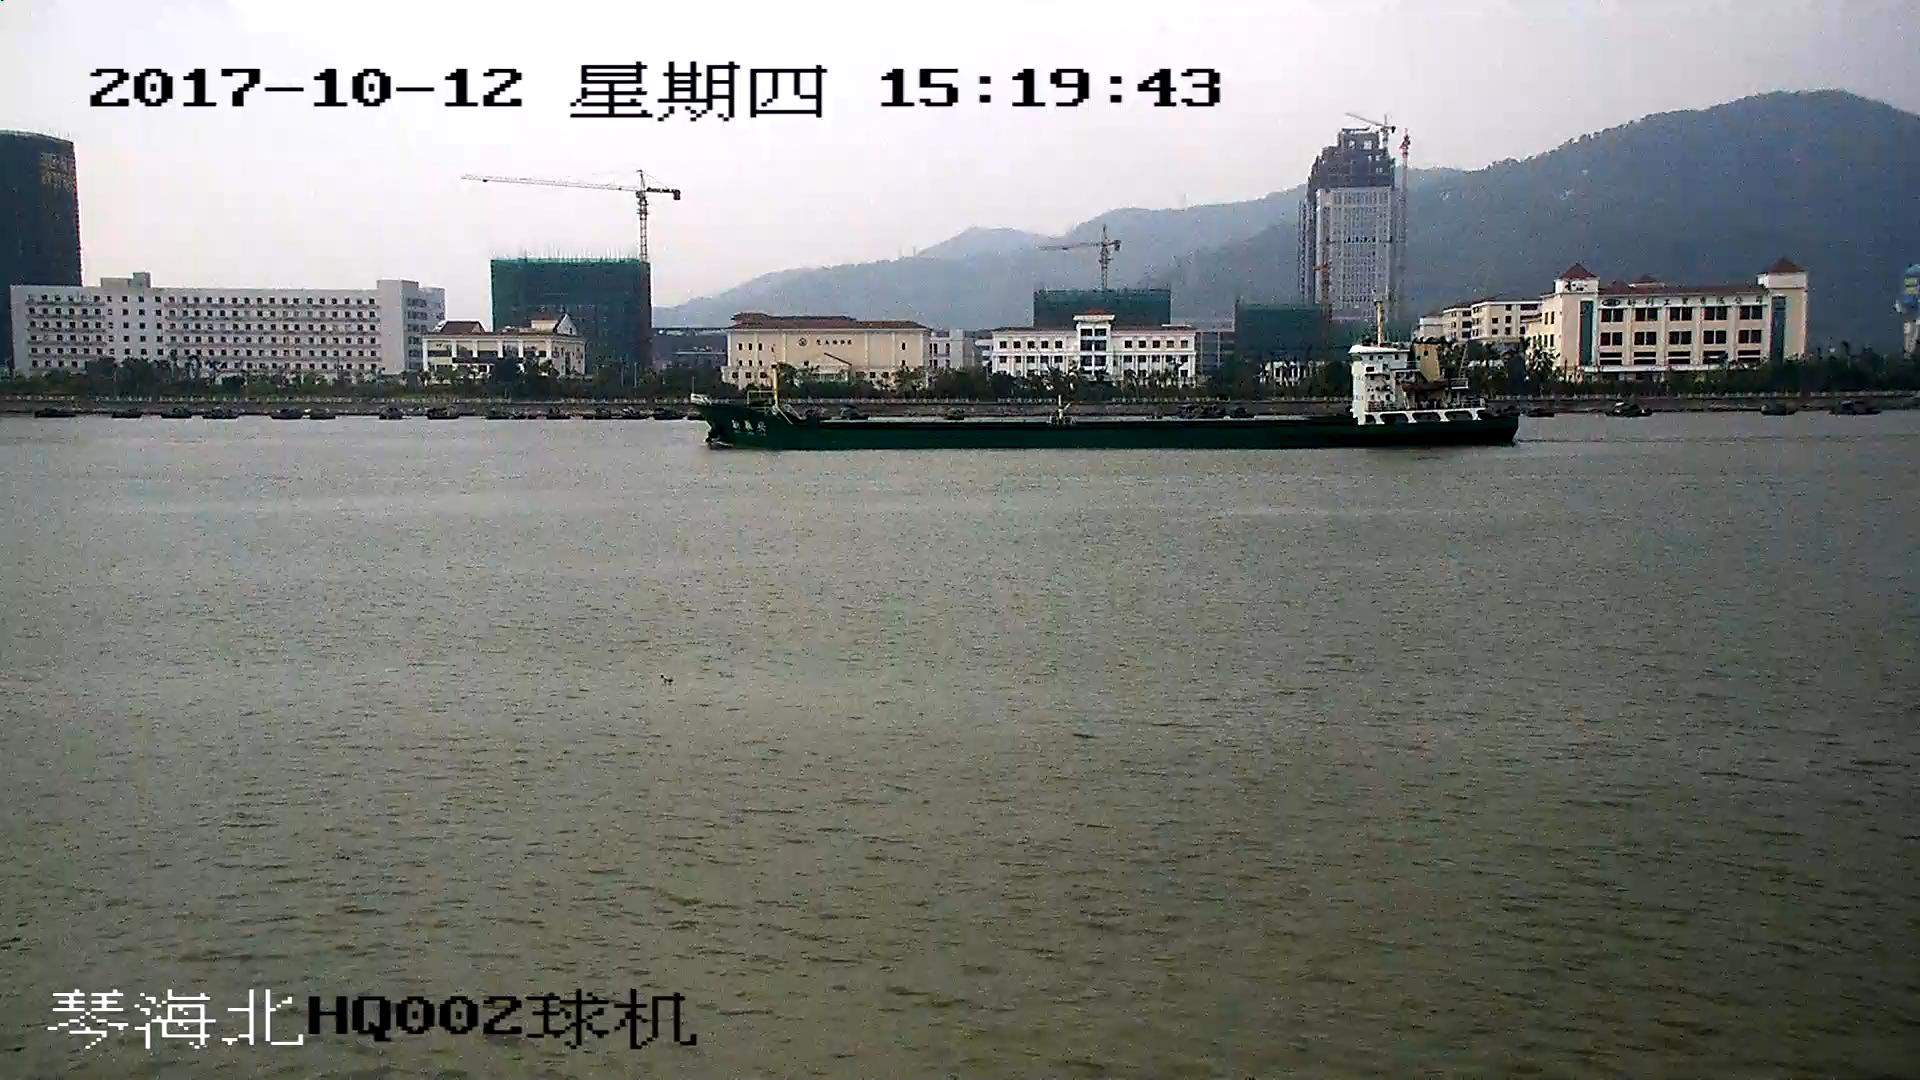general cargo ship: (693, 326, 1519, 450)
